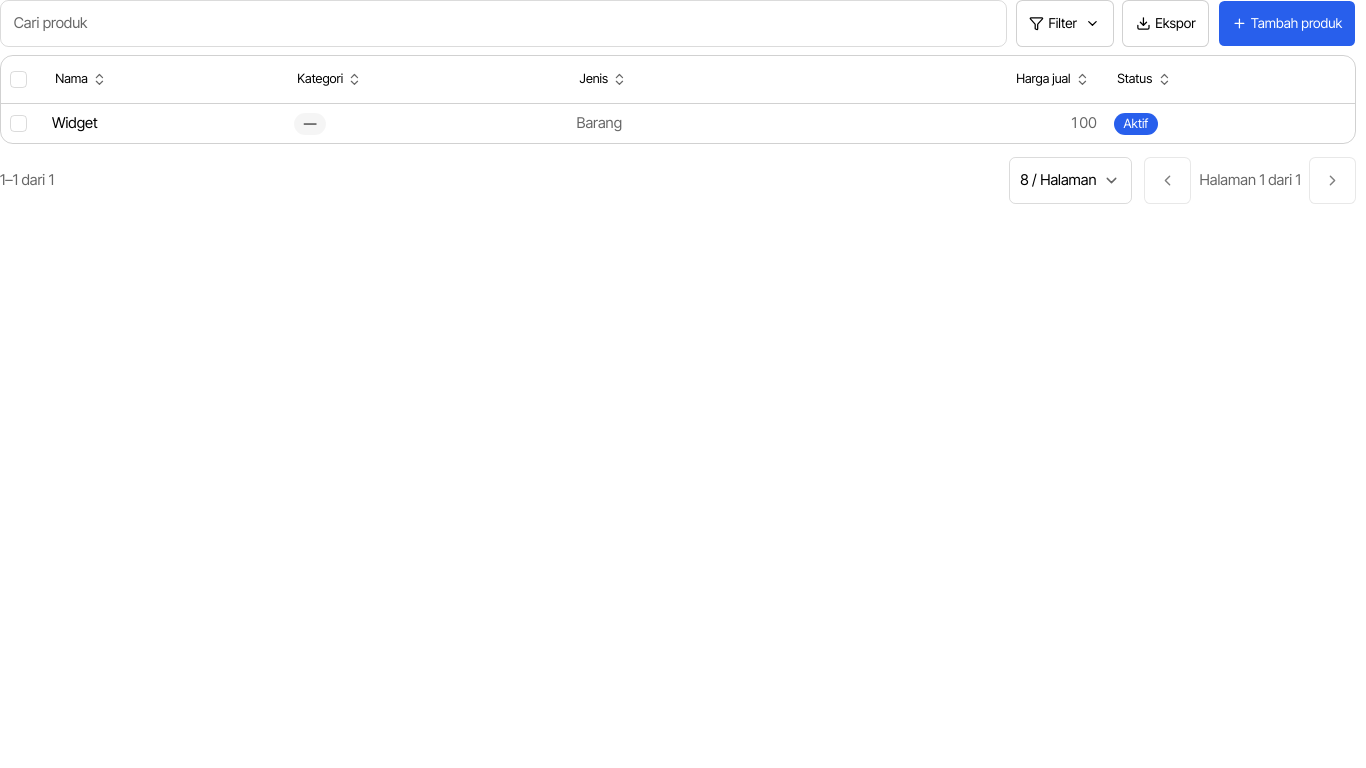
Scenario: ProductsSection branches › opens the create dialog
The image size is (1366, 768).
Expected: the link "Widget" is shown, [52,114,98,132]
Click the button "Tambah produk": (1287,23) [1218,0,1356,47]
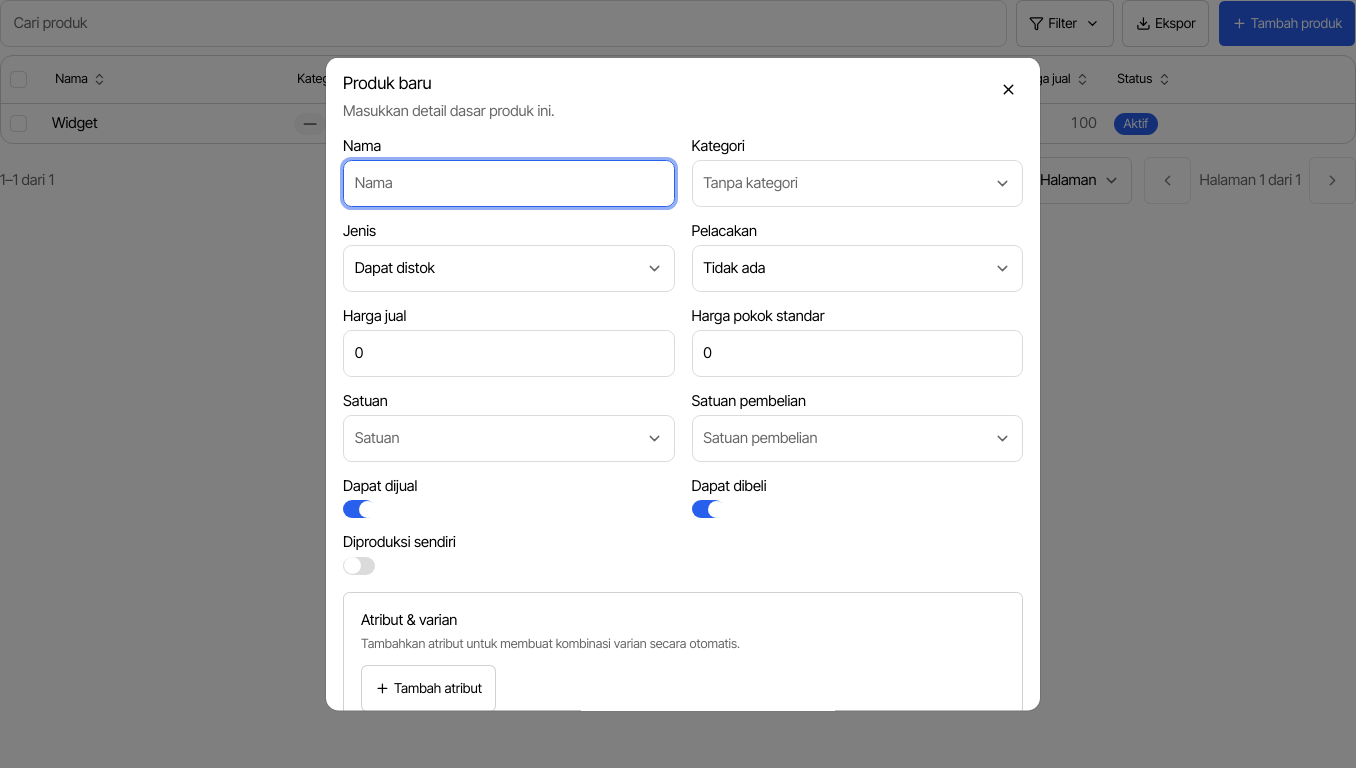
Expected: the dialog is shown, [326,58,1040,710]
